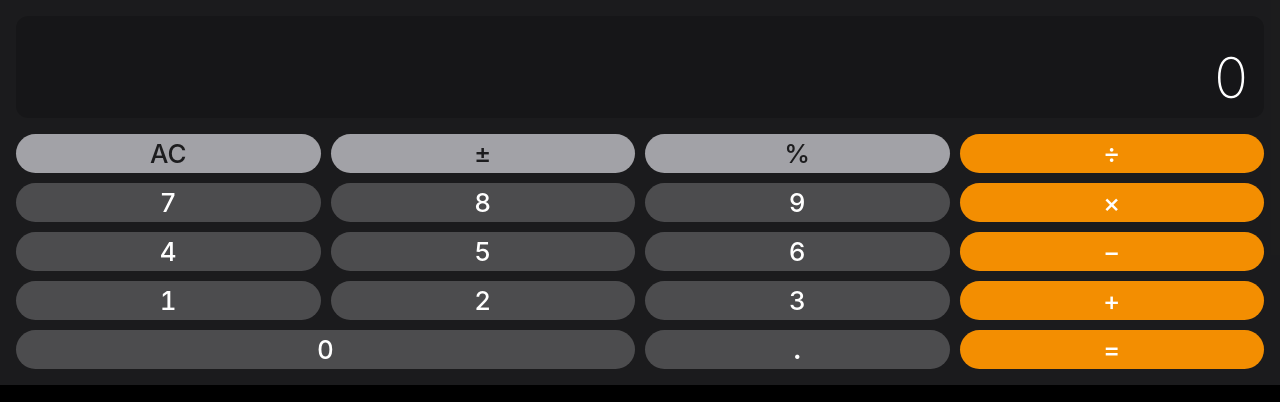
Test: Calculator › evaluates a 2 + 3 = 5 sequence through button clicks
What coordinates should you click on to do the following:
click the button "2"
I would click on:
 (483, 300)
Its box is [330,281,635,320].
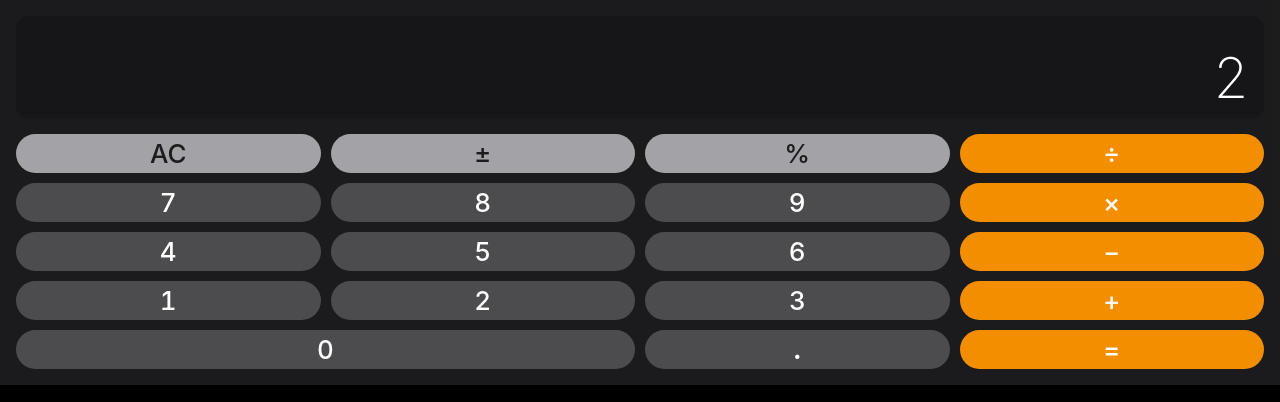
What coordinates should you click on to do the following:
click the button with test id "calculator-key-+"
I would click on:
 (1112, 300)
Its box is [960,281,1264,320].
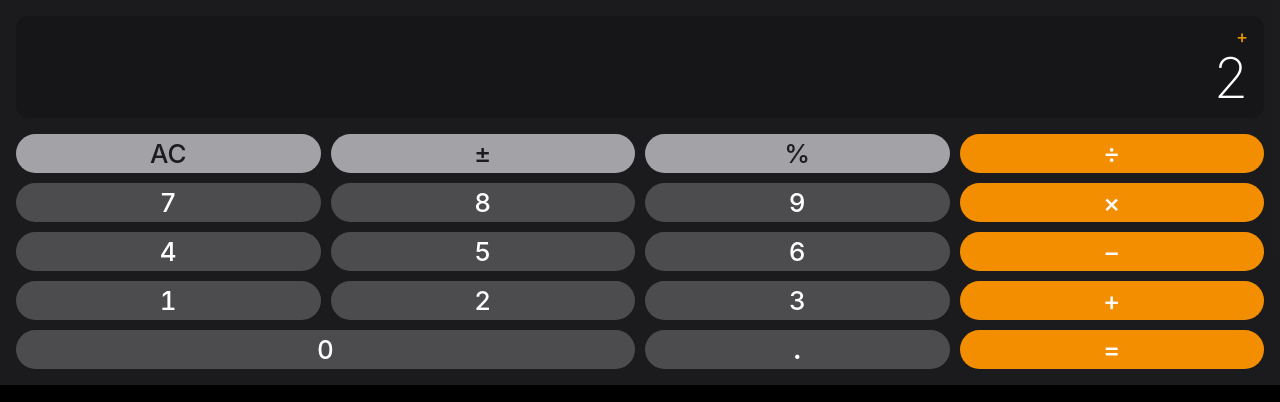
What coordinates should you click on to do the following:
click the button "3"
I would click on:
 (797, 300)
Its box is [645,281,950,320].
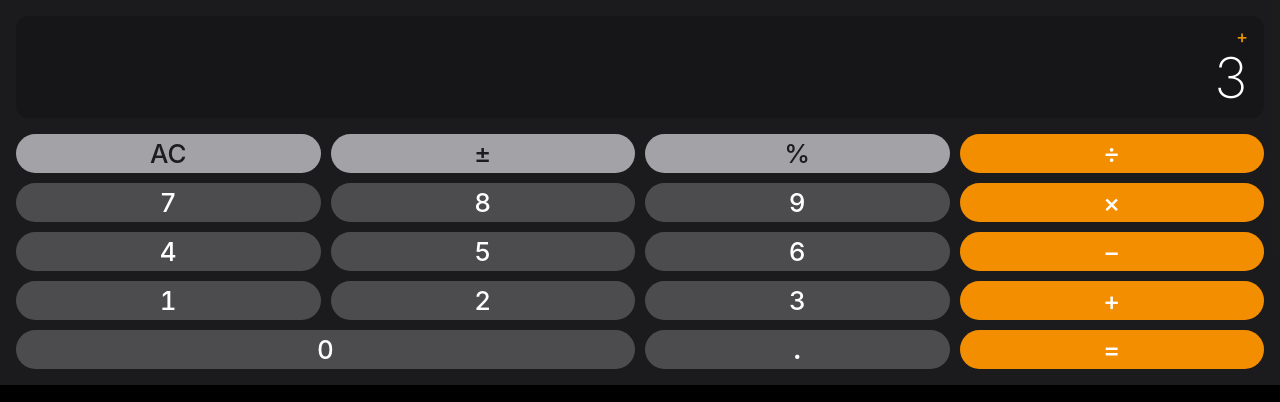
What coordinates should you click on to do the following:
click the button with test id "calculator-key-="
I would click on:
 (1112, 350)
Its box is [960,330,1264,369].
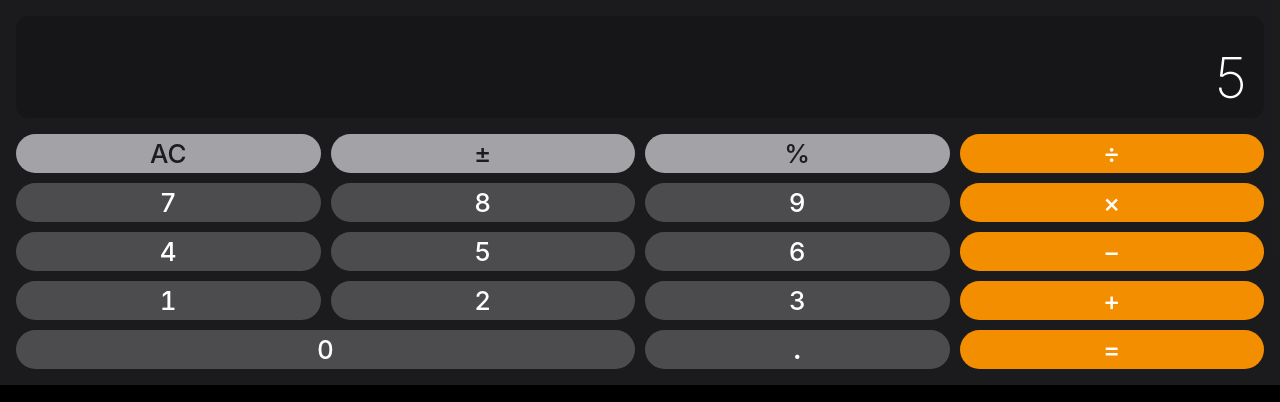
Expected: the text with test id "calculator-display-value" reads "5", [1213,44,1248,112]
